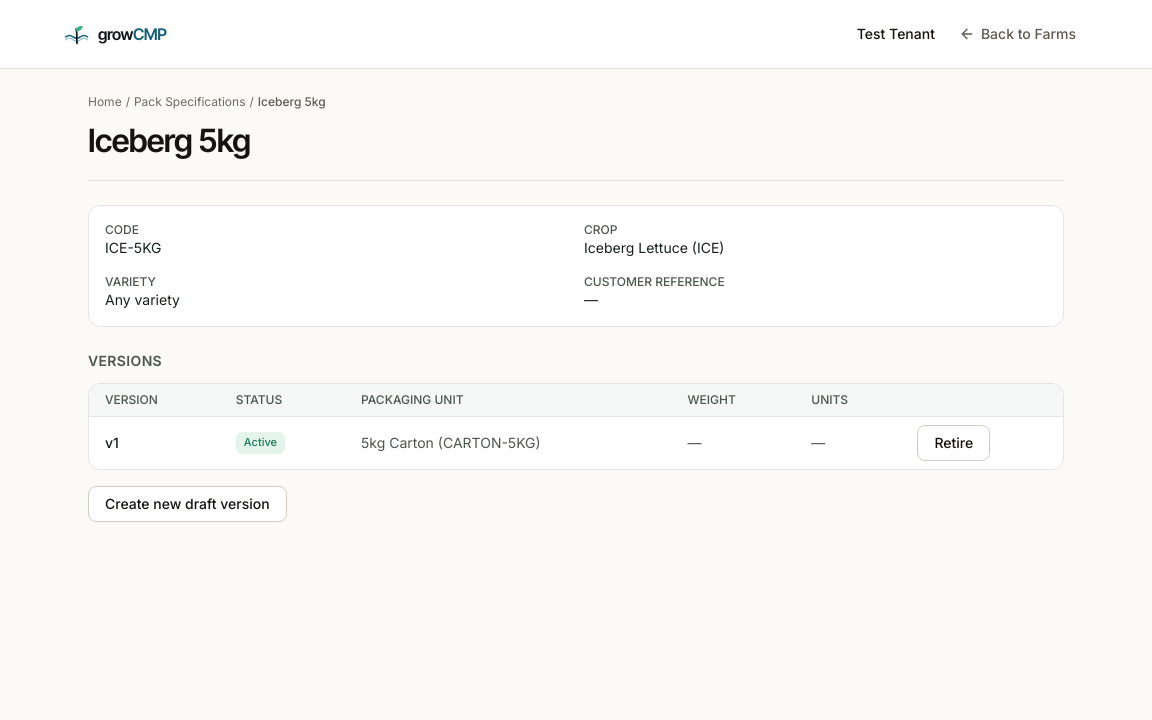
Test: PackSpecificationDetailPage › an active version offers Retire; a retired version offers no action
Click the button "Retire".
click(954, 443)  # box [917,425,990,461]
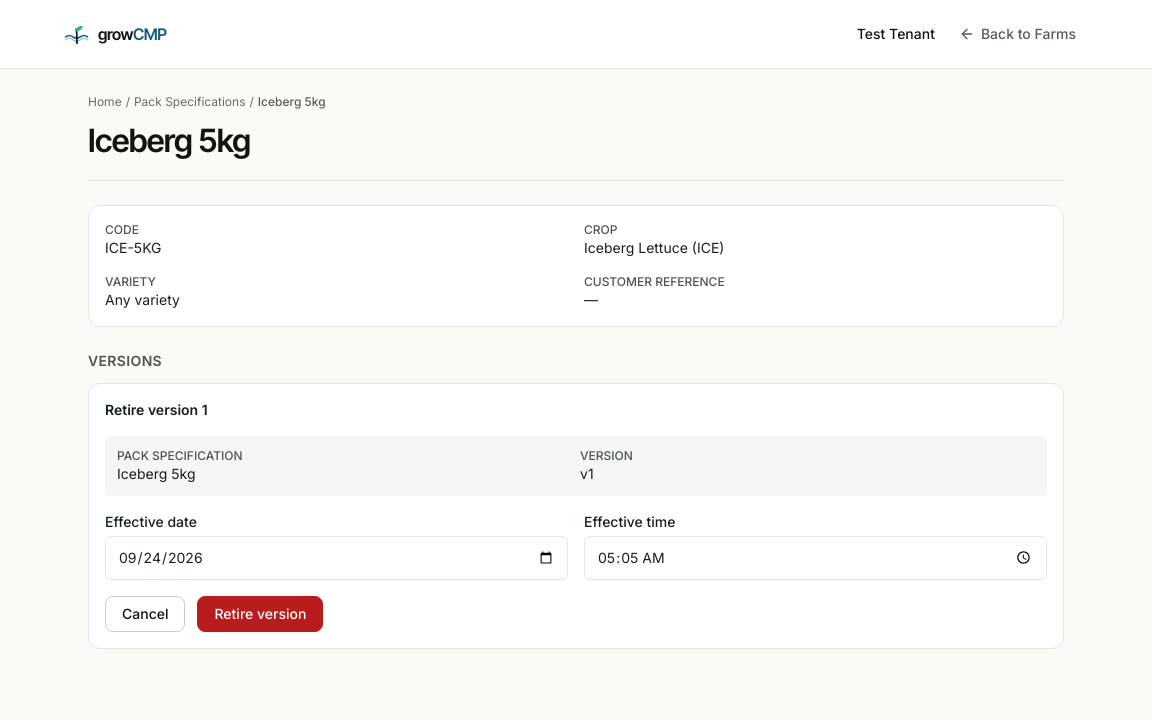
Type "2026-08-29" into the date field labelled "Effective date".
click(336, 558); type("2026-08-29")  # box [105,536,568,580]
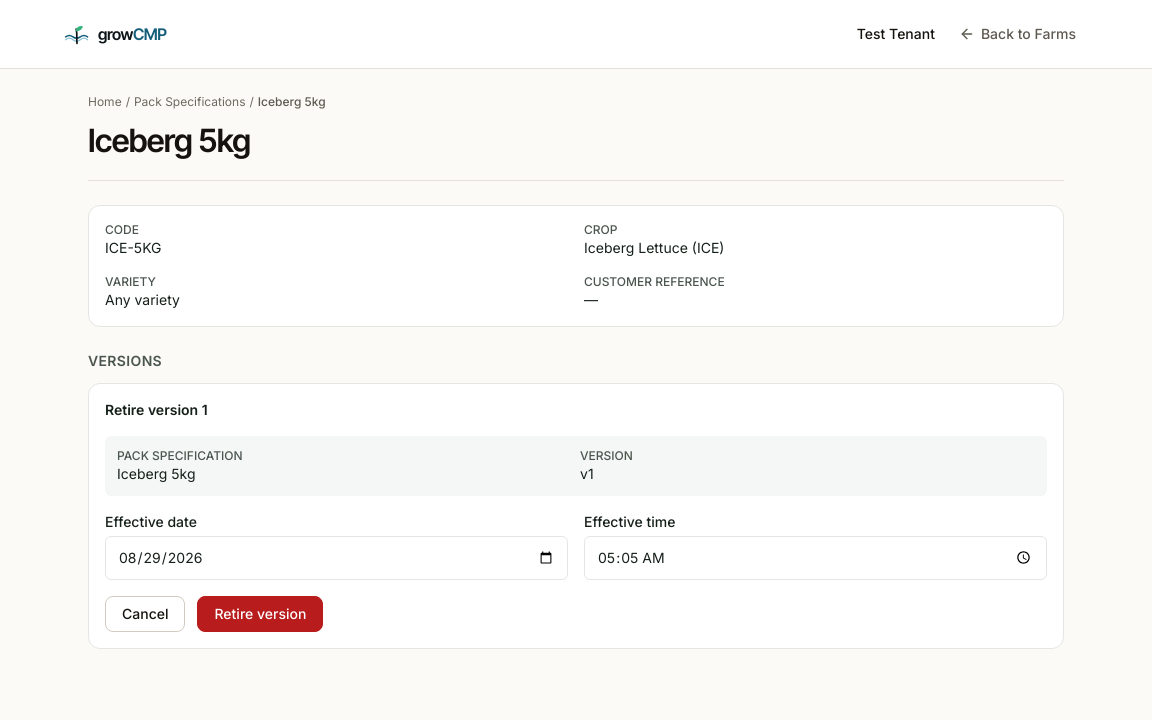
Replace the text in the time field labelled "Effective time" with "11:00" at (816, 558), box [584,536,1047,580]
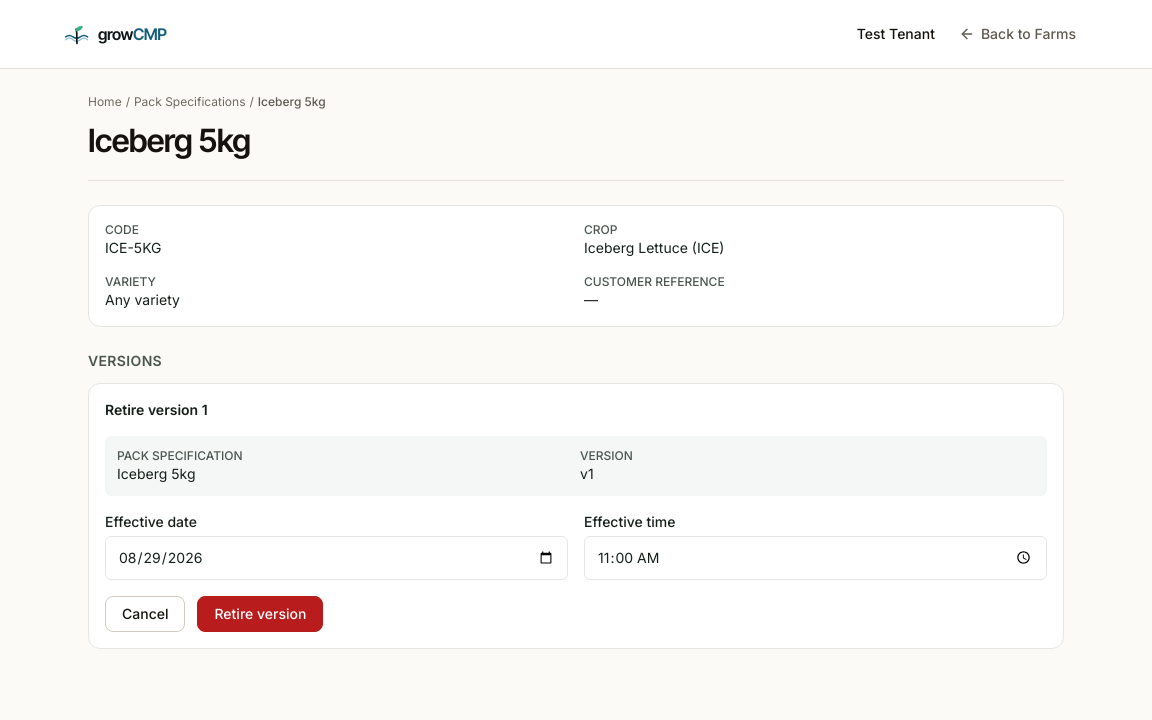
Click the button "Retire version".
click(260, 614)  # box [198,596,323,632]
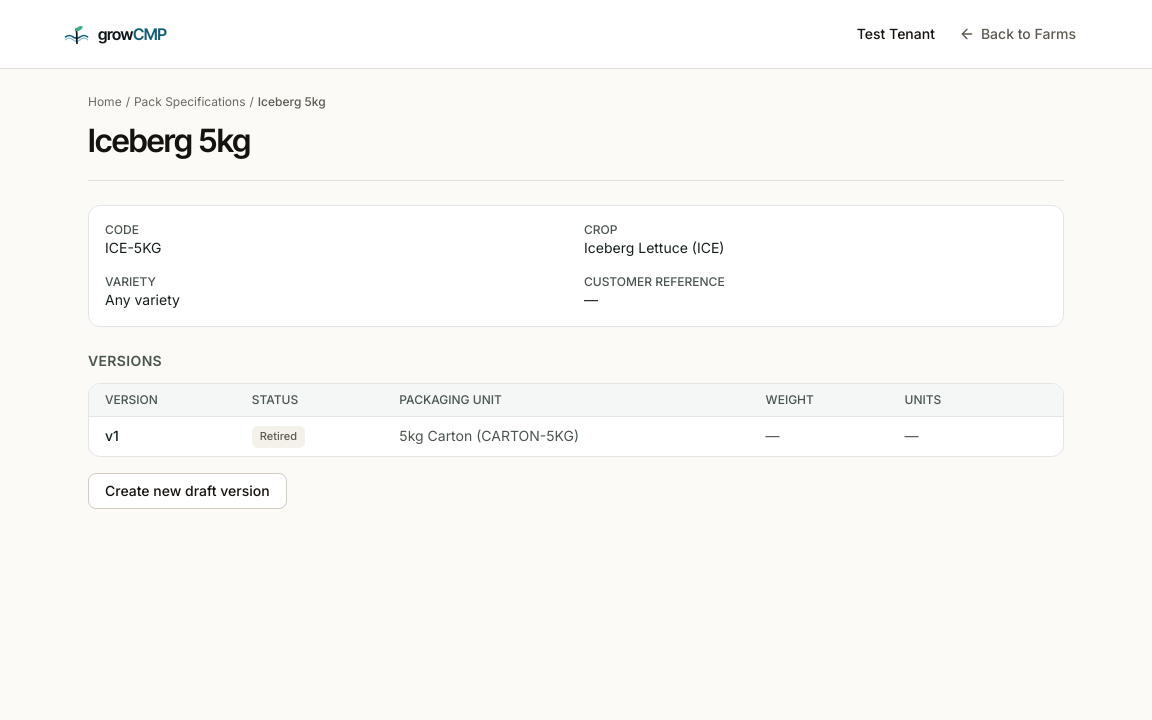
Result: the text "Retired" is shown at [252,426,305,448]
Result: the button "Cancel" is gone
